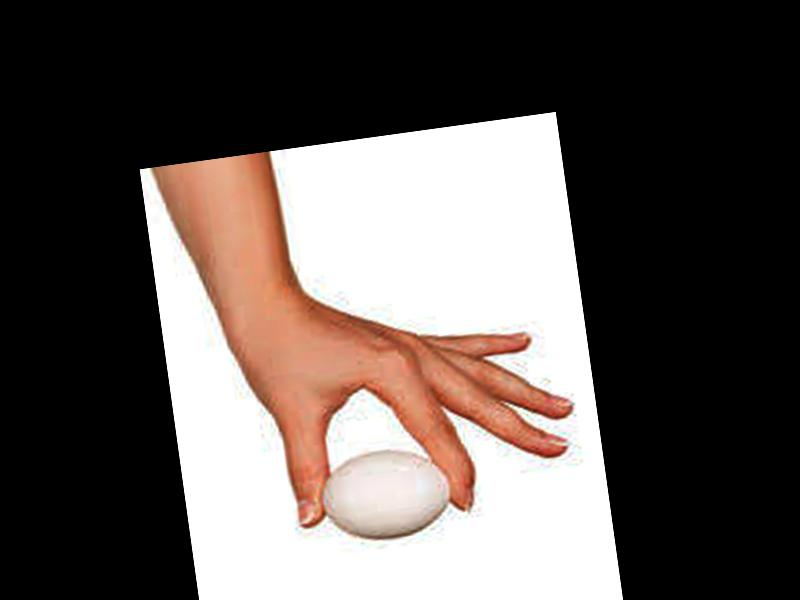Eggs: (317, 441, 456, 549)
